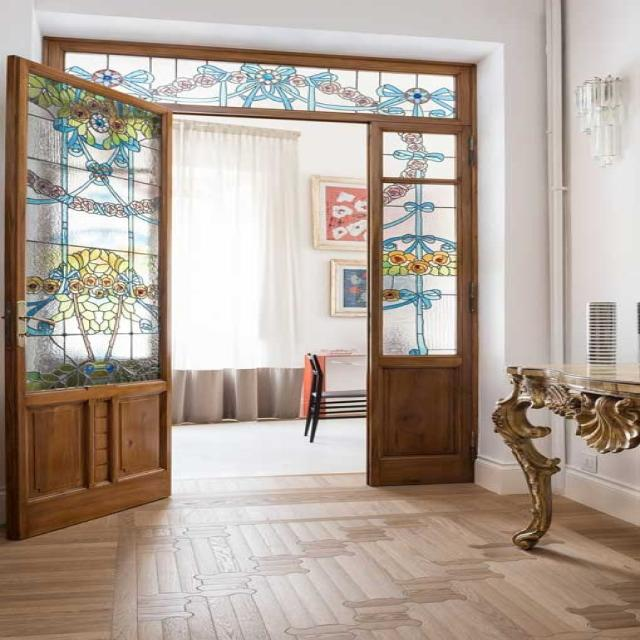door: (3, 55, 173, 540)
